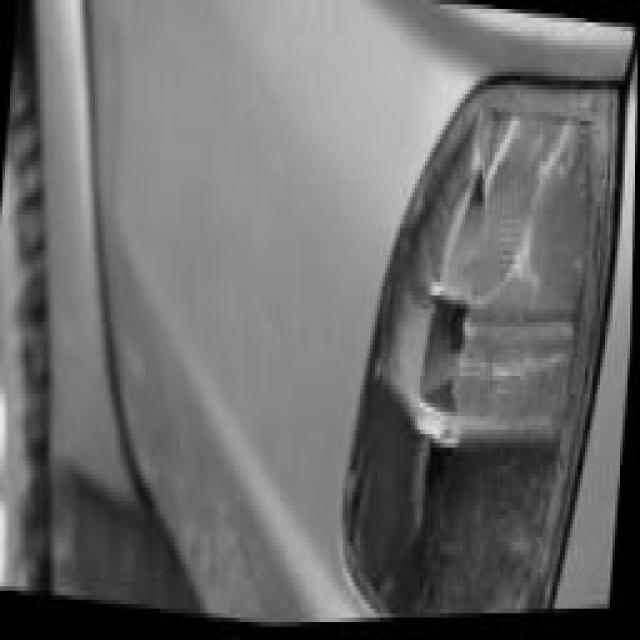Light: (330, 36, 626, 625)
